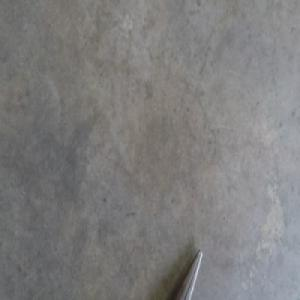Pliers: (174, 249, 202, 298)
